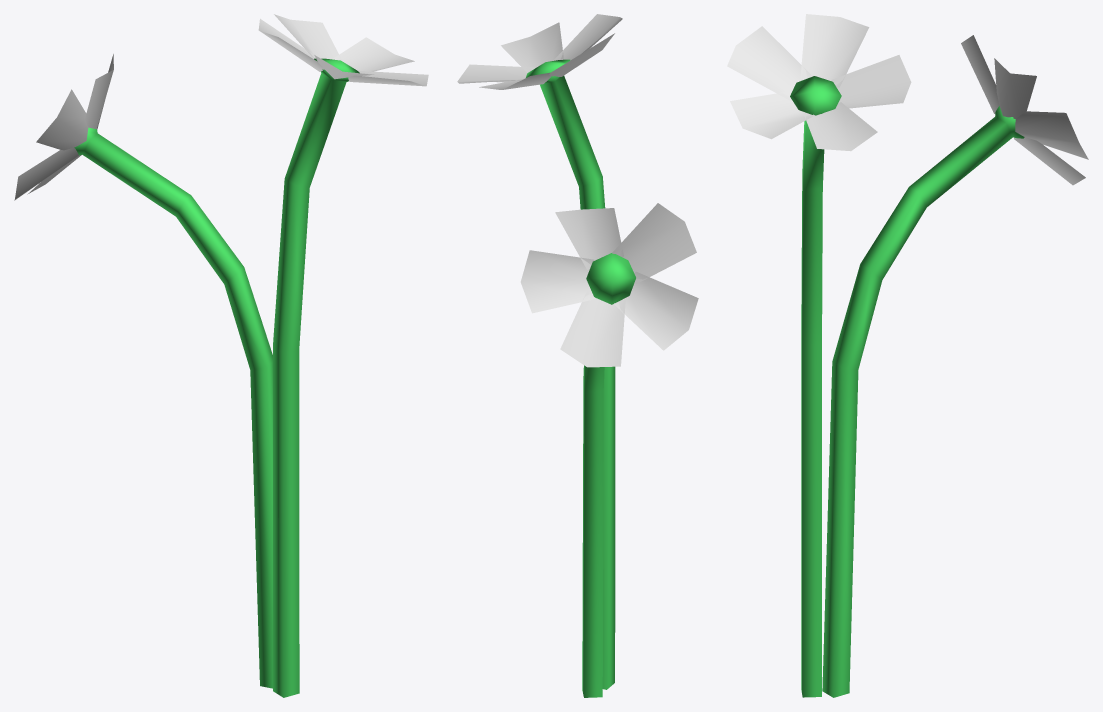
Rendered from Flower_A_1.fbx.
The picture shows the model from 3 angles, left to right: view 1: azimuth 30°, elevation 25°; view 2: azimuth 150°, elevation 25°; view 3: azimuth 270°, elevation 25°; orthographic projection. The views are drawn at different scales.
Visible parts, largest first — view 1: Flower_A_1_LOD0; view 2: Flower_A_1_LOD0; view 3: Flower_A_1_LOD0.
Part boxes in pixels (left/top/right/bottom): Flower_A_1_LOD0: left=14, top=14, right=428, bottom=697; Flower_A_1_LOD0: left=457, top=14, right=698, bottom=697; Flower_A_1_LOD0: left=727, top=14, right=1088, bottom=697.
Size of what is drawn, in the model's own units: 0.3813 by 0.7647 by 0.3722.
